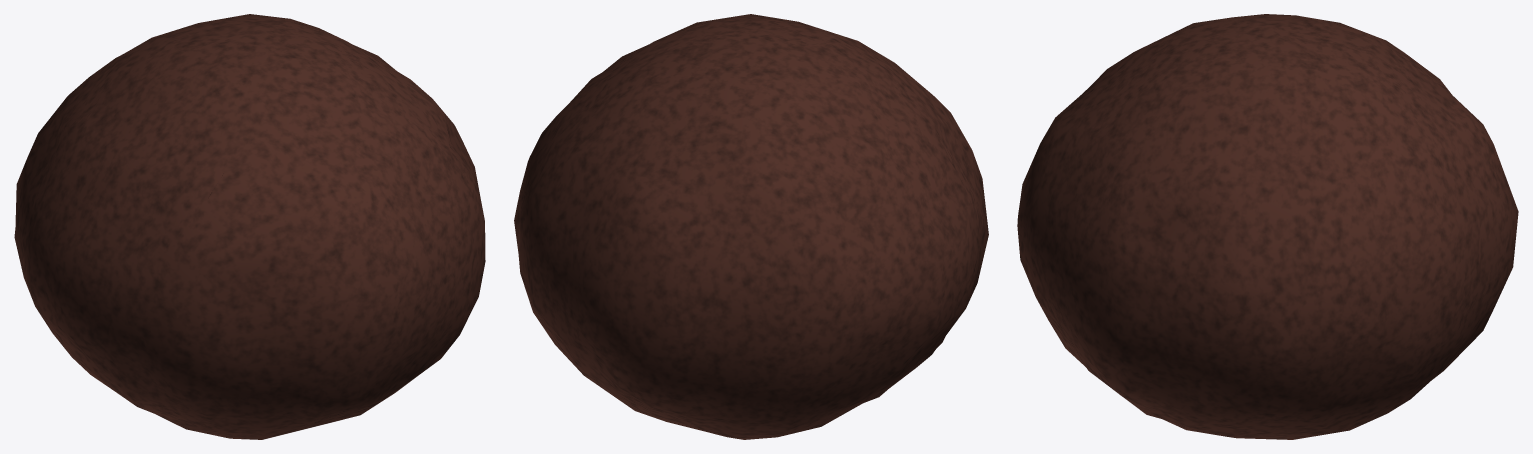
The model's file is World.fbx.
3 views of the same model, side by side, from view 1: azimuth 30°, elevation 25°; view 2: azimuth 150°, elevation 25°; view 3: azimuth 270°, elevation 25° (orthographic). The views are drawn at different scales.
Visible parts, largest first — view 1: World_LP; view 2: World_LP; view 3: World_LP.
Part boxes in pixels (bbox=[...]): World_LP: bbox=[14, 14, 485, 439]; World_LP: bbox=[514, 14, 988, 439]; World_LP: bbox=[1017, 14, 1518, 439].
Bounding box in the file's own units: 90939 × 79670 × 93953.
